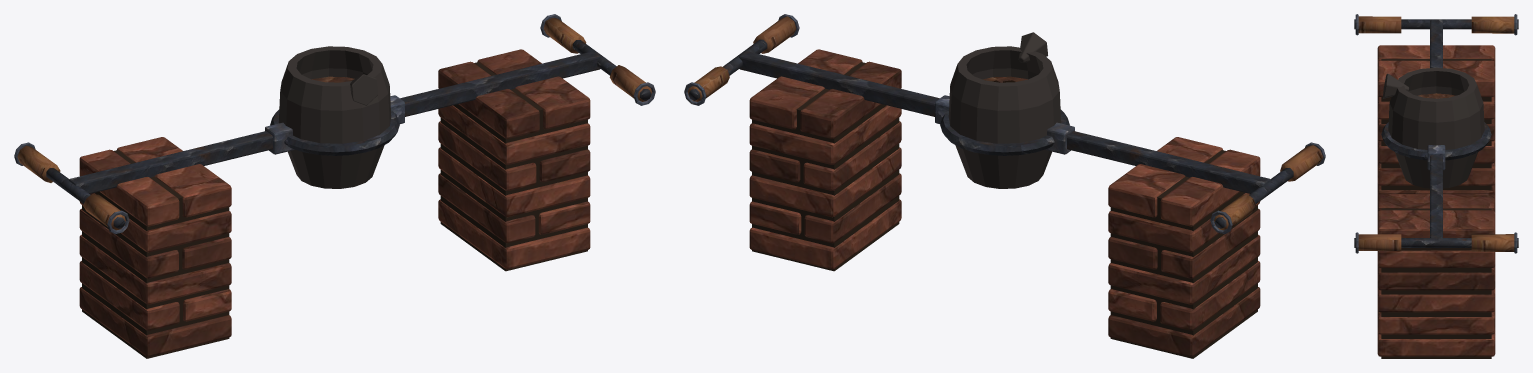
File: cf_crucible_shank.glb
The picture shows the model from 3 angles, left to right: view 1: azimuth 30°, elevation 25°; view 2: azimuth 150°, elevation 25°; view 3: azimuth 270°, elevation 25°; orthographic projection. The views are drawn at different scales.
Parts seen in each view (by area): view 1: model; view 2: model; view 3: model.
Part boxes in pixels (x1,y1,x2,y2): model: (14, 14, 655, 358); model: (684, 14, 1325, 358); model: (1354, 14, 1518, 358).
Size of the model in its own units: 1.83 by 0.7288 by 0.56.
Materials: 10 (7 with a texture image).
